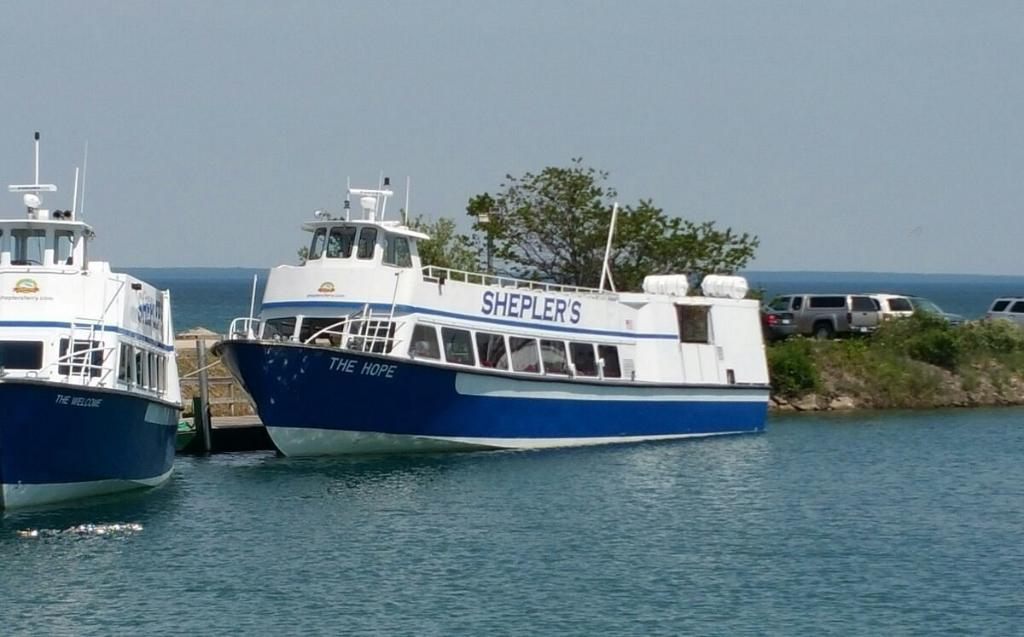PassengerShip: (213, 178, 783, 456), (0, 156, 184, 518)
